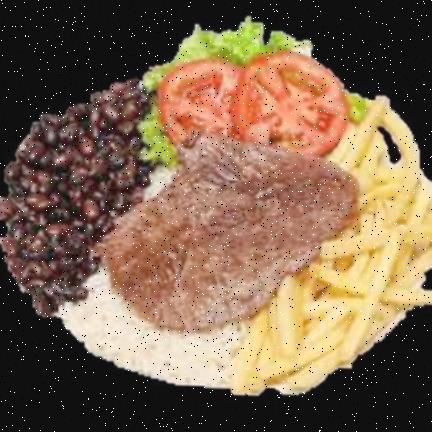beans: (0, 79, 155, 315)
meat: (101, 135, 356, 331)
potato: (172, 100, 432, 393), (65, 274, 167, 360)
rice: (59, 267, 246, 387)
salad: (138, 18, 311, 166)
tomato: (159, 51, 349, 156)
